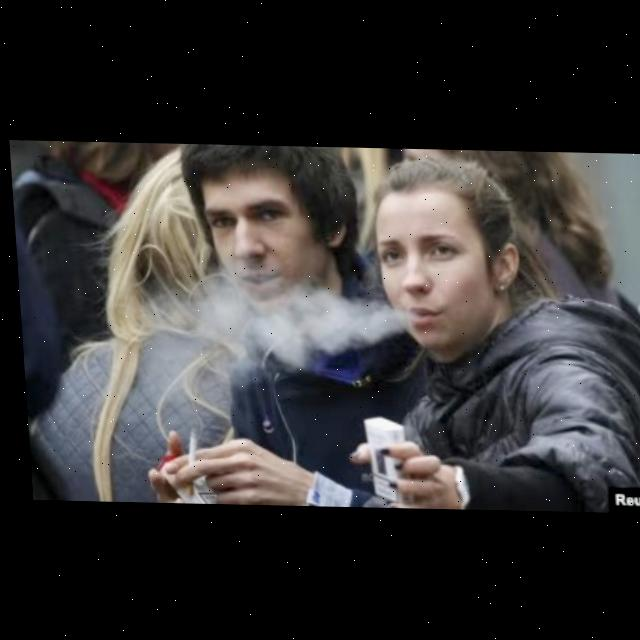cigarette: (175, 427, 195, 497)
